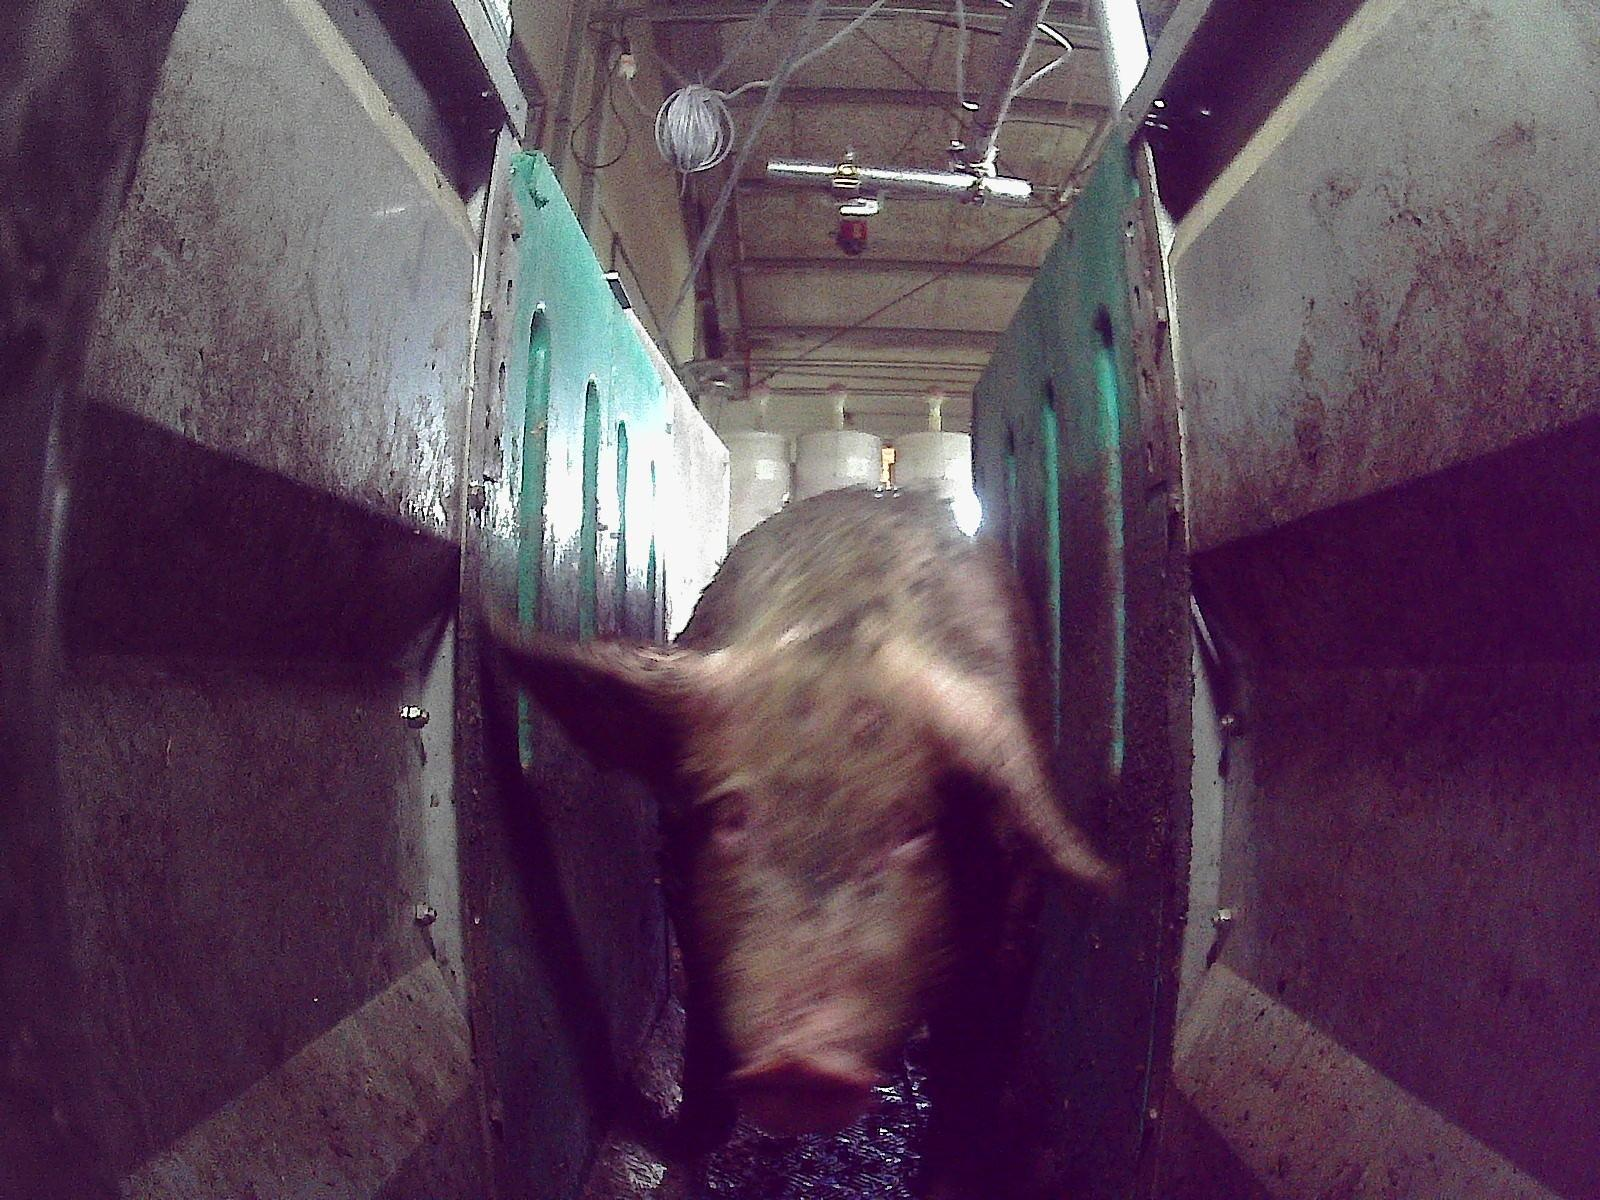Face: (671, 655, 954, 1134)
